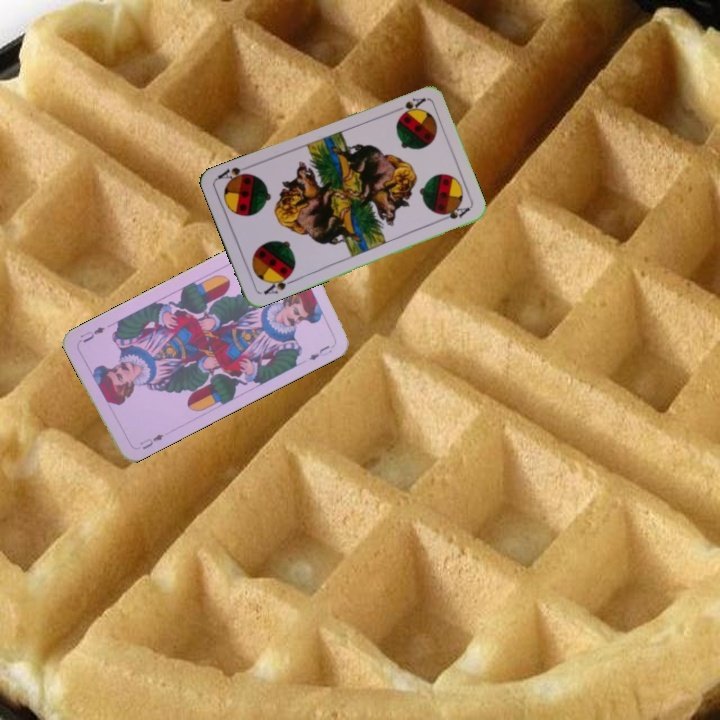EU: (136, 430, 167, 452)
SA: (259, 270, 297, 297), (390, 93, 429, 119)
